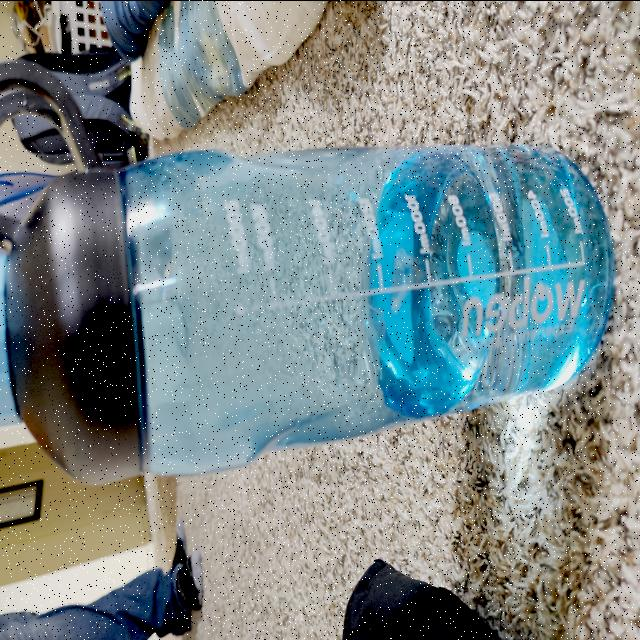bottle: (0, 66, 604, 452)
